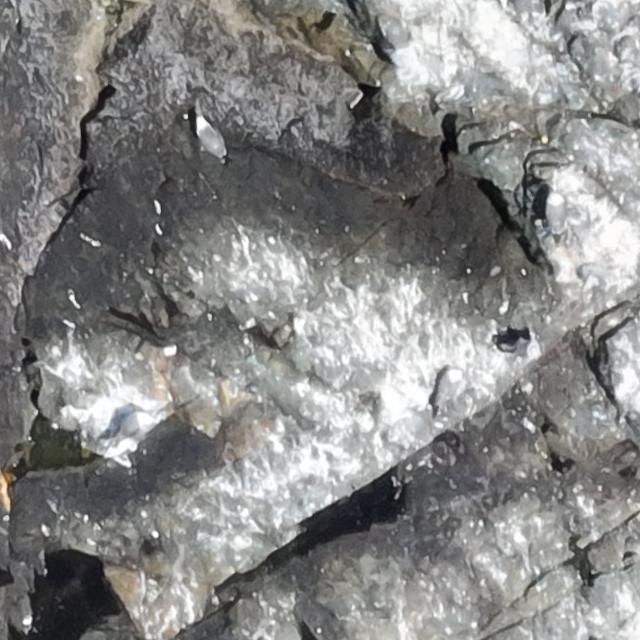umineko: (108, 408, 154, 450), (193, 115, 230, 166), (432, 365, 464, 415), (544, 192, 566, 241)
